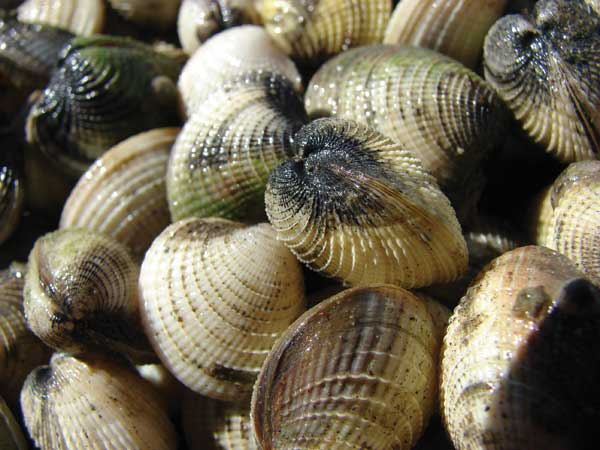cockle: (260, 117, 472, 293), (434, 243, 600, 448), (132, 214, 308, 404), (252, 285, 448, 450), (299, 41, 510, 176), (166, 68, 304, 217), (28, 34, 188, 161), (478, 1, 600, 162), (13, 353, 181, 449), (17, 226, 142, 353), (55, 124, 181, 240), (178, 24, 307, 109), (391, 1, 503, 76), (534, 162, 600, 282), (178, 393, 258, 450)
